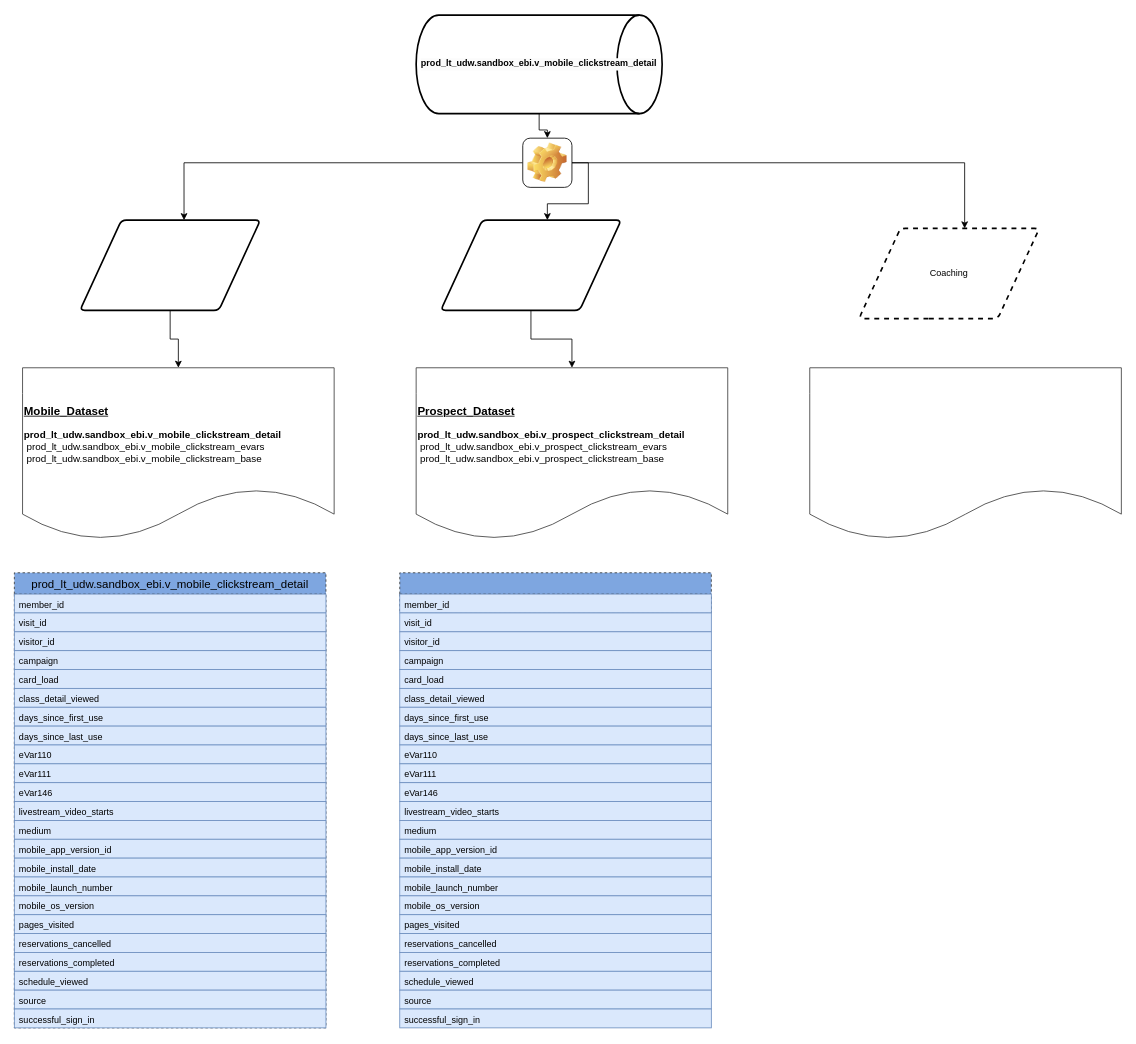
This 1136x1044 diagram has some shape labels left out. The shapes that lost their labels are listed below. From the top down, each one's box as (x1, y1, x2, y2) in pixels, then its label:
(522, 137, 572, 187): Icon
(79, 219, 261, 311): Mobile
(440, 219, 622, 311): Prospect
(809, 367, 1121, 540): Coaching_Dataset
(399, 572, 711, 613): prod_lt_udw.sandbox_ebi.v_prospect_clickstream_detail
